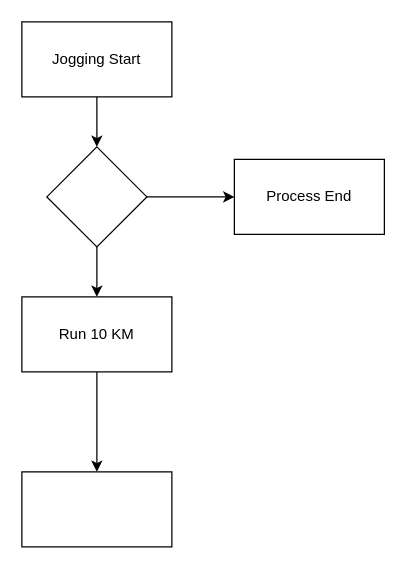
Image size: 406x569. Some labels were removed from this diagram. Each missing label, with the box of its shape:
End Run: (21, 471, 172, 547)
Should Run?: (46, 146, 147, 247)
